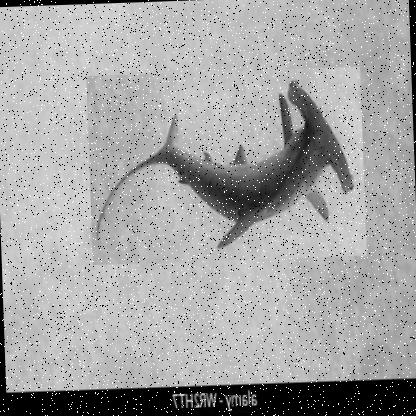hammerhead_Shark: (85, 67, 366, 266)
